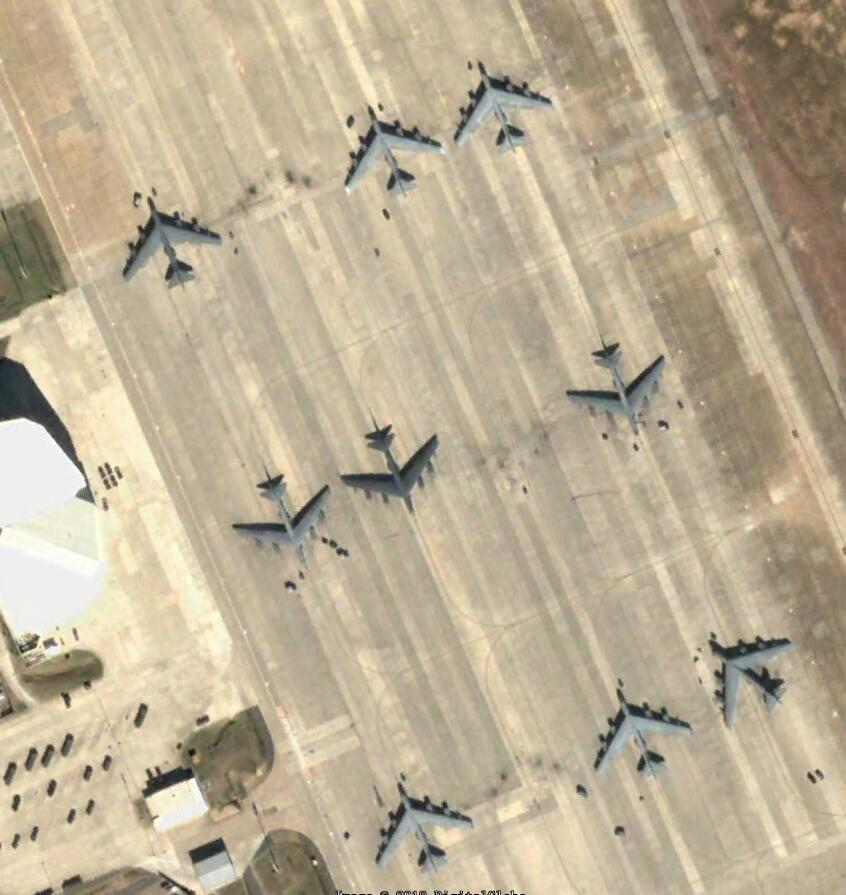A8: (224, 461, 337, 566), (450, 58, 558, 162), (340, 413, 444, 517), (340, 101, 446, 203), (588, 683, 694, 785), (561, 335, 669, 435), (367, 778, 478, 874), (115, 194, 223, 292), (706, 629, 798, 732)
